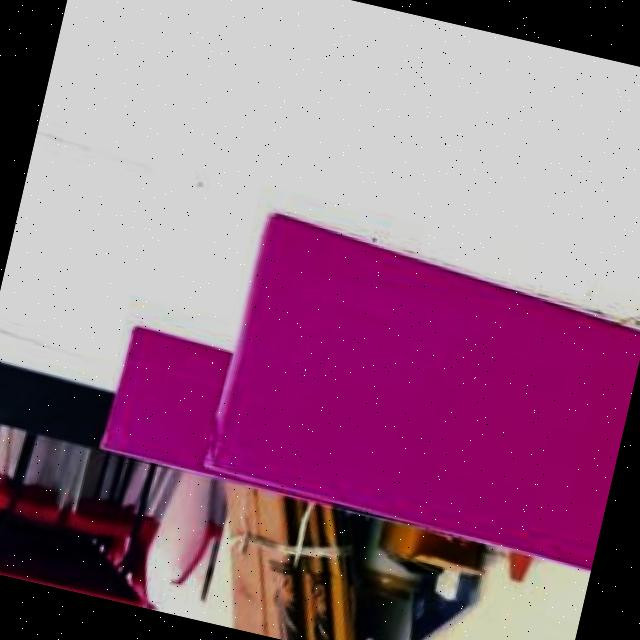xparking: (212, 210, 640, 547), (100, 319, 231, 471)
